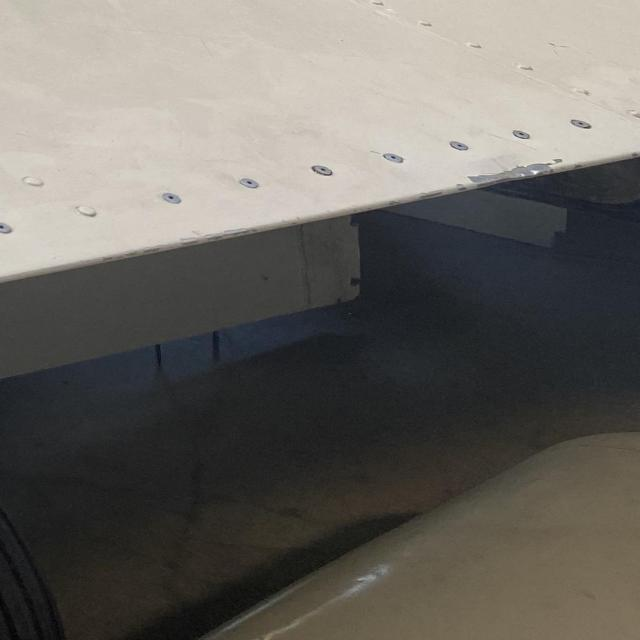Paint-off: (469, 161, 558, 187), (203, 228, 255, 241), (452, 180, 472, 195), (174, 236, 204, 245)
